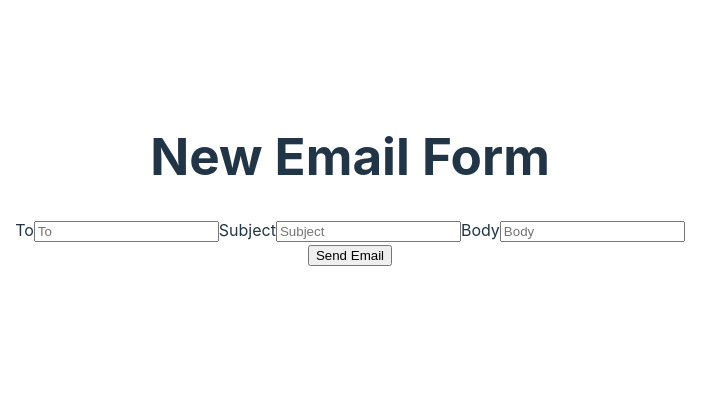
NewEmailForm › should have errors message when the values are empty
Click the button "Send Email".
click(350, 256)  # box [308,246,392,266]
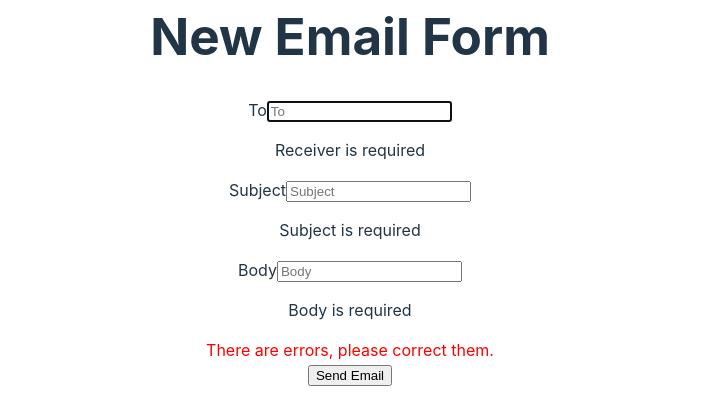
Result: the text "Receiver is required" is shown at [275,140,425,160]
Result: the text "Subject is required" is shown at [279,220,421,240]
Result: the text "Body is required" is shown at [288,300,412,320]
